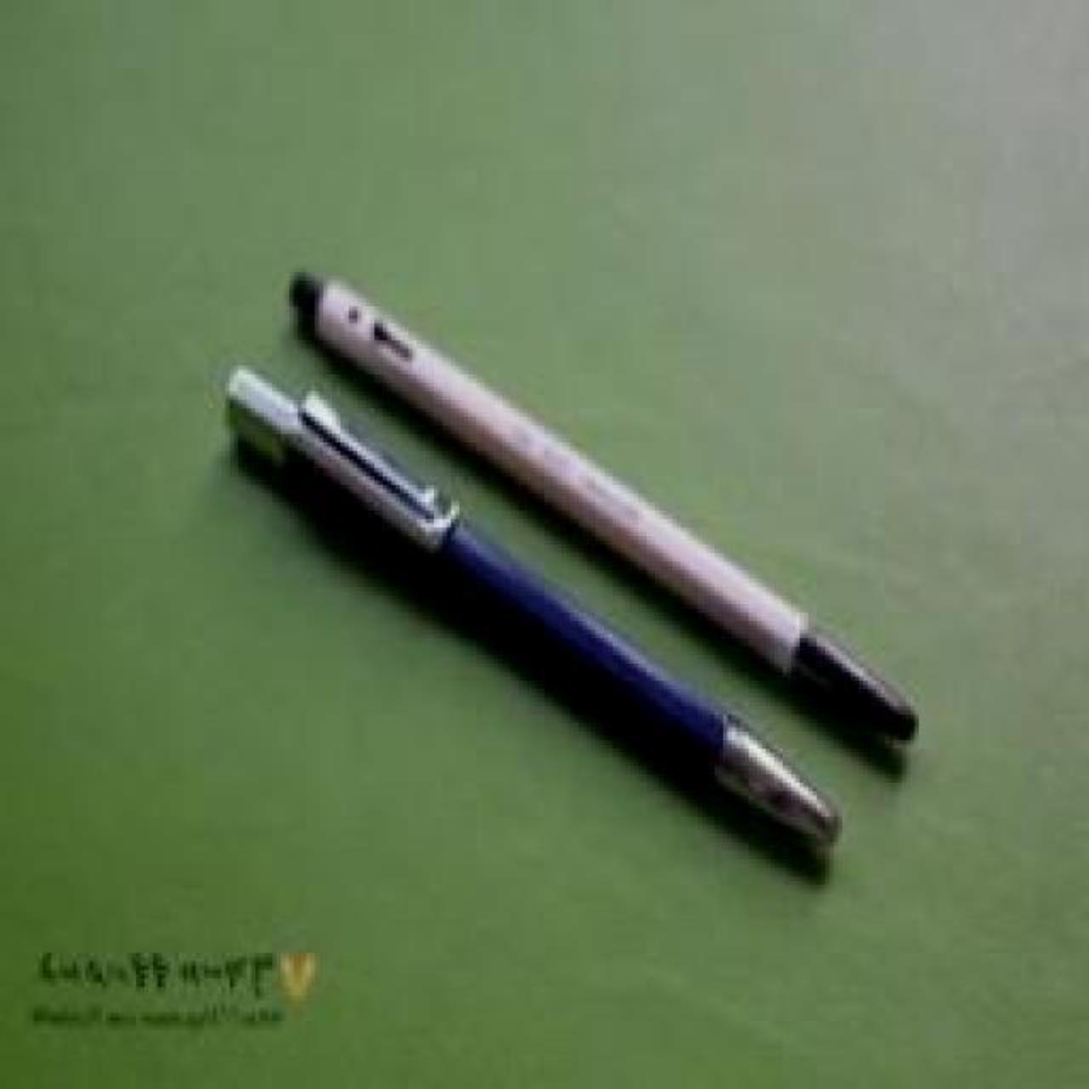pen: (185, 227, 932, 900)
